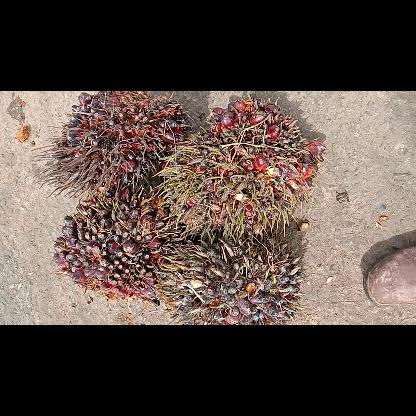TBS abnormal: (160, 93, 316, 233), (36, 92, 184, 192), (46, 198, 164, 310), (158, 234, 302, 324)
